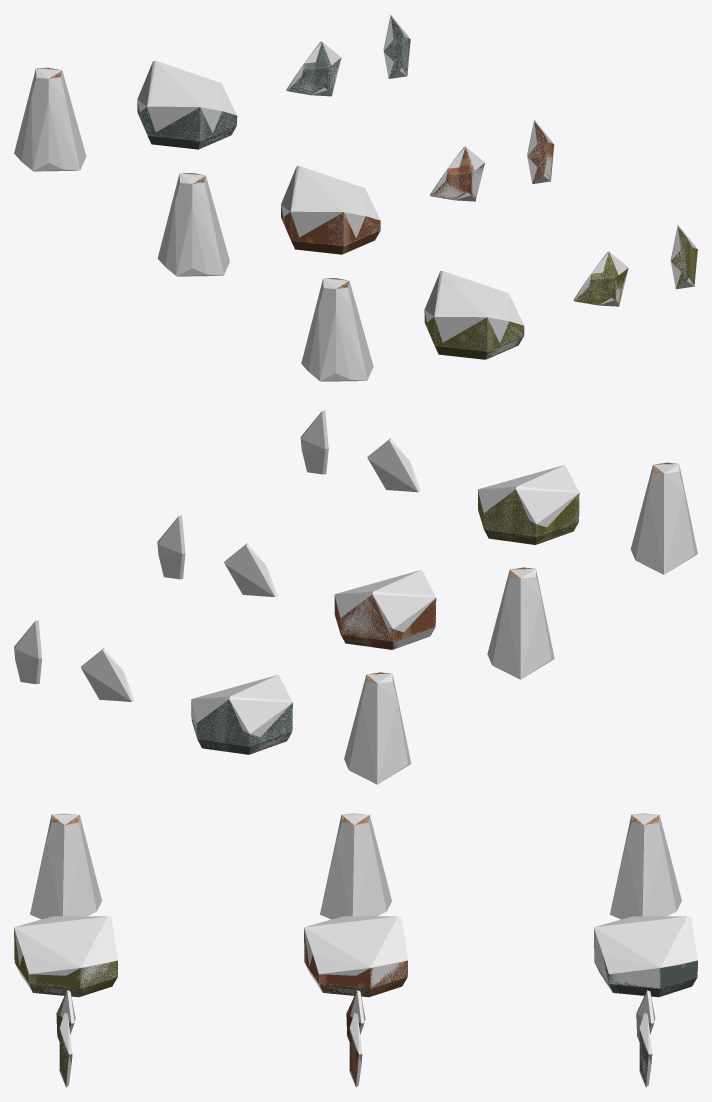
File: SM_DB02_GlassShards.fbx
The picture shows the model from 3 angles, top to bottom: view 1: azimuth 30°, elevation 25°; view 2: azimuth 150°, elevation 25°; view 3: azimuth 270°, elevation 25°; orthographic projection.
Visible parts, largest first — view 1: DB02_Glass_Neck_COL, DB02_Glass_Neck_Brown_COL, DB02_Glass_Neck_Blue_COL, DB02_Glass_Bottom_Blue_COL, DB02_Glass_Bottom_COL, DB02_Glass_Bottom_Brown_COL, DB02_Glass_Bottom_Brown, DB02_Glass_Bottom_Blue, DB02_Glass_Bottom, DB02_Glass_WallA_Brown_COL, DB02_Glass_WallA_Blue, DB02_Glass_WallA (+9 smaller); view 2: DB02_Glass_Neck_Brown_COL, DB02_Glass_Neck_Blue_COL, DB02_Glass_Neck_COL, DB02_Glass_Bottom_Brown_COL, DB02_Glass_Bottom_Blue_COL, DB02_Glass_Bottom_COL, DB02_Glass_Bottom, DB02_Glass_Bottom_Blue, DB02_Glass_Bottom_Brown, DB02_Glass_WallA_COL, DB02_Glass_WallA_Brown_COL, DB02_Glass_WallA_Blue_COL (+3 smaller); view 3: DB02_Glass_Bottom_Brown_COL, DB02_Glass_Bottom_COL, DB02_Glass_Bottom_Blue_COL, DB02_Glass_Neck_Blue_COL, DB02_Glass_Neck_COL, DB02_Glass_Neck_Brown_COL, DB02_Glass_Bottom, DB02_Glass_Bottom_Brown, DB02_Glass_Bottom_Blue, DB02_Glass_WallB_Blue_COL, DB02_Glass_WallB_COL, DB02_Glass_WallB_Brown_COL (+1 smaller).
Part boxes in pixels (x1,y1,x2,y2): DB02_Glass_Neck_COL: (301,278,373,381); DB02_Glass_Neck_Brown_COL: (157,173,229,276); DB02_Glass_Neck_Blue_COL: (14,68,86,171); DB02_Glass_Bottom_Blue_COL: (137,60,236,148); DB02_Glass_Bottom_COL: (424,271,523,358); DB02_Glass_Bottom_Brown_COL: (281,166,380,246); DB02_Glass_Bottom_Brown: (281,206,380,254); DB02_Glass_Bottom_Blue: (137,101,237,149); DB02_Glass_Bottom: (424,310,524,359); DB02_Glass_WallA_Brown_COL: (430,146,484,201); DB02_Glass_WallA_Blue: (287,42,341,95); DB02_Glass_WallA: (574,252,628,305); DB02_Glass_Neck_Brown_COL: (487,568,554,679); DB02_Glass_Neck_Blue_COL: (344,672,411,784); DB02_Glass_Neck_COL: (630,463,697,574); DB02_Glass_Bottom_Brown_COL: (334,569,435,649); DB02_Glass_Bottom_Blue_COL: (191,674,292,754); DB02_Glass_Bottom_COL: (478,465,579,544); DB02_Glass_Bottom: (478,489,579,544); DB02_Glass_Bottom_Blue: (191,699,292,754); DB02_Glass_Bottom_Brown: (334,594,436,649); DB02_Glass_WallA_COL: (367,438,420,492); DB02_Glass_WallA_Brown_COL: (224,543,277,596); DB02_Glass_WallA_Blue_COL: (81,648,134,701); DB02_Glass_Bottom_Brown_COL: (304,916,407,996); DB02_Glass_Bottom_COL: (14,916,117,996); DB02_Glass_Bottom_Blue_COL: (594,916,697,997); DB02_Glass_Neck_Blue_COL: (610,813,681,919); DB02_Glass_Neck_COL: (30,813,101,919); DB02_Glass_Neck_Brown_COL: (320,813,391,919); DB02_Glass_Bottom: (14,930,117,997); DB02_Glass_Bottom_Brown: (304,929,407,997); DB02_Glass_Bottom_Blue: (594,933,697,996); DB02_Glass_WallB_Blue_COL: (639,1013,652,1087); DB02_Glass_WallB_COL: (59,1013,72,1087); DB02_Glass_WallB_Brown_COL: (349,1013,362,1087).
Bounding box in the file's own units: 0.4731 × 0.1063 × 0.7078.
